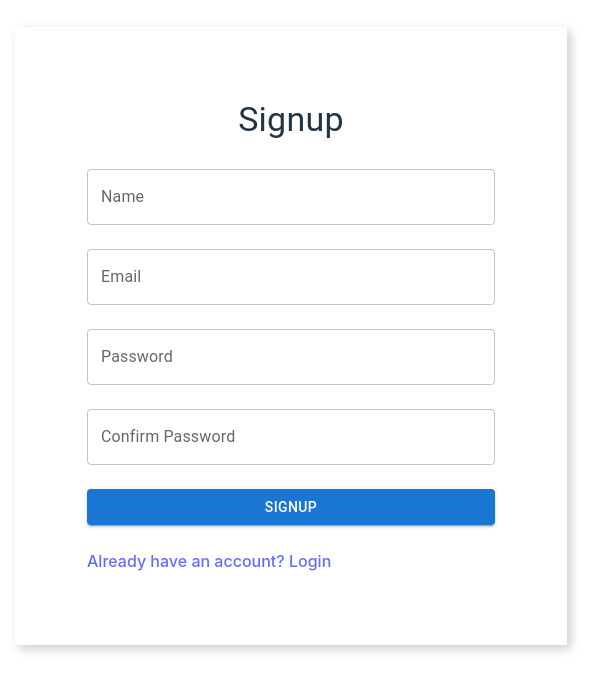
Test: Signup Component › validates email format
Type "invalid-email" into the field labelled "Email" at (291, 277), box [87,249,495,305]
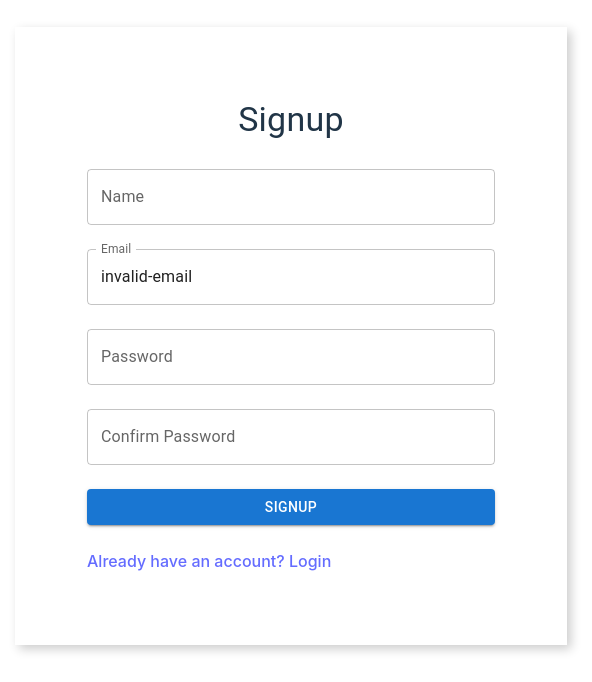
Leave the field labelled "Email", box [87,249,495,305]
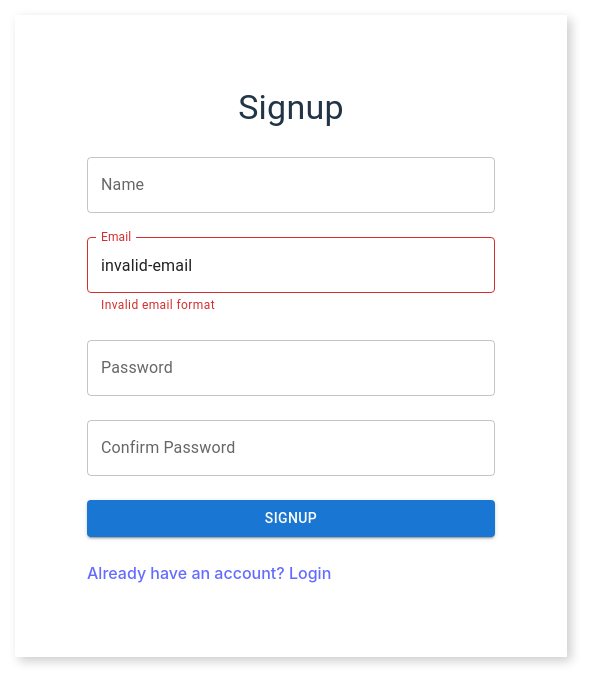
Expected: the text "Invalid email format" is shown, [101,298,215,312]
